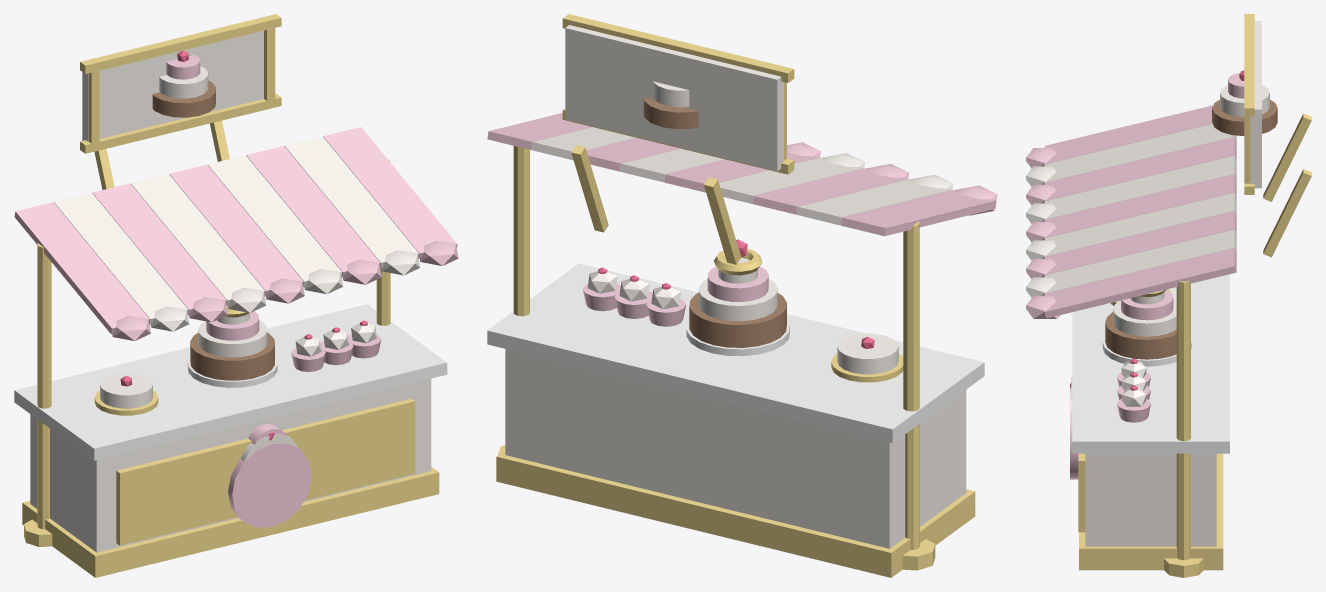
The model's file is stall_cake.glb.
The picture shows the model from 3 angles, left to right: view 1: azimuth 30°, elevation 25°; view 2: azimuth 150°, elevation 25°; view 3: azimuth 270°, elevation 25°; orthographic projection. The views are drawn at different scales.
Parts seen in each view (by area): view 1: stall_cake; view 2: stall_cake; view 3: stall_cake.
Part boxes in pixels (x1,y1,x2,y2): stall_cake: (14, 14, 458, 577); stall_cake: (487, 14, 997, 577); stall_cake: (1026, 14, 1311, 577).
Bounding box in the file's own units: 3.26 × 3.59 × 2.18.
